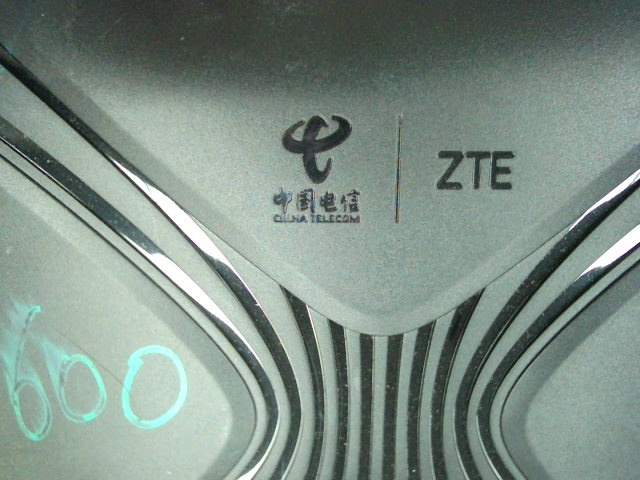AX_ZTEChinaTelecom: (249, 110, 525, 231)
